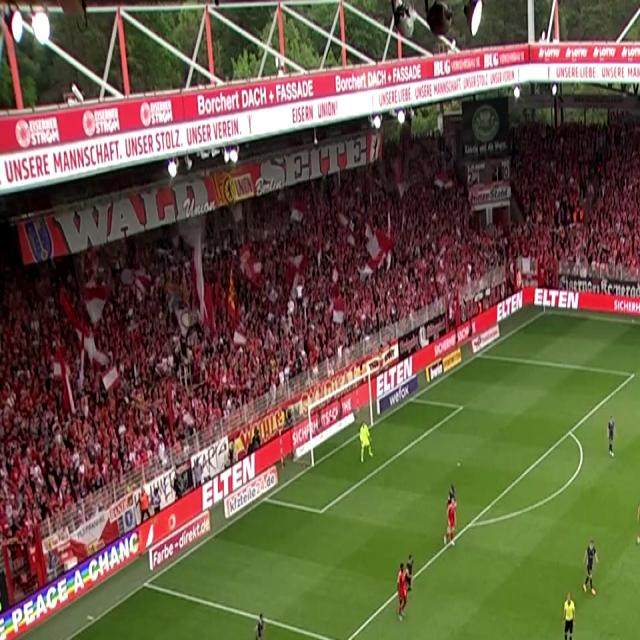goalkeeper: (359, 410, 384, 470)
referee: (558, 592, 582, 640)
soccer-player: (390, 552, 411, 629), (440, 482, 462, 554), (578, 536, 602, 600), (248, 605, 278, 640), (606, 414, 622, 464), (631, 492, 640, 552)
